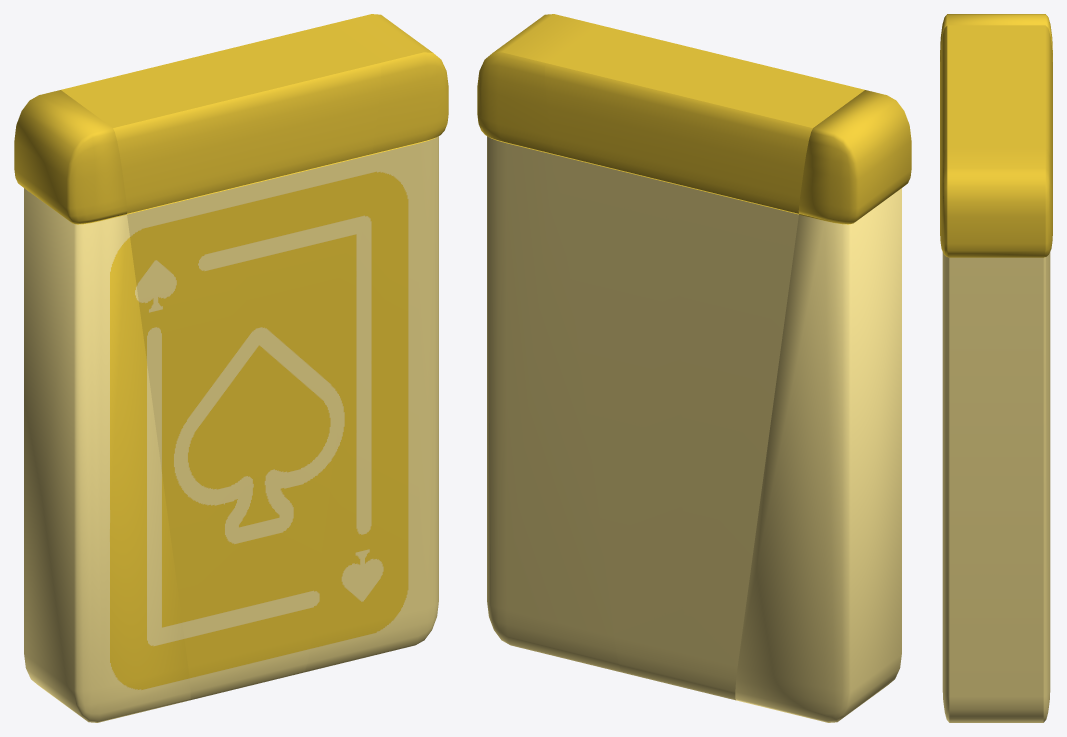
File: cards.fbx
3 renders of one model, left to right at view 1: azimuth 30°, elevation 25°; view 2: azimuth 150°, elevation 25°; view 3: azimuth 270°, elevation 25°, orthographic. The views are drawn at different scales.
Visible parts, largest first — view 1: Cube.004, Cube.002, Cube.003, Cube.001; view 2: Cube.004, Cube.002, Cube.003, Cube.001; view 3: Cube.001, Cube.002, Cube.003, Cube.004.
Part boxes in pixels (x1=…): Cube.004: x1=14, y1=90, x2=190, y2=722; Cube.002: x1=193, y1=25, x2=380, y2=688; Cube.003: x1=61, y1=57, x2=248, y2=700; Cube.001: x1=304, y1=14, x2=448, y2=672; Cube.004: x1=735, y1=90, x2=911, y2=722; Cube.002: x1=545, y1=25, x2=732, y2=688; Cube.003: x1=677, y1=57, x2=864, y2=700; Cube.001: x1=477, y1=14, x2=621, y2=672; Cube.001: x1=940, y1=148, x2=1052, y2=722; Cube.002: x1=940, y1=86, x2=1052, y2=179; Cube.003: x1=940, y1=25, x2=1052, y2=119; Cube.004: x1=940, y1=14, x2=1052, y2=61.
Bounding box in the file's own units: 1.35 × 2.01 × 0.3685.
